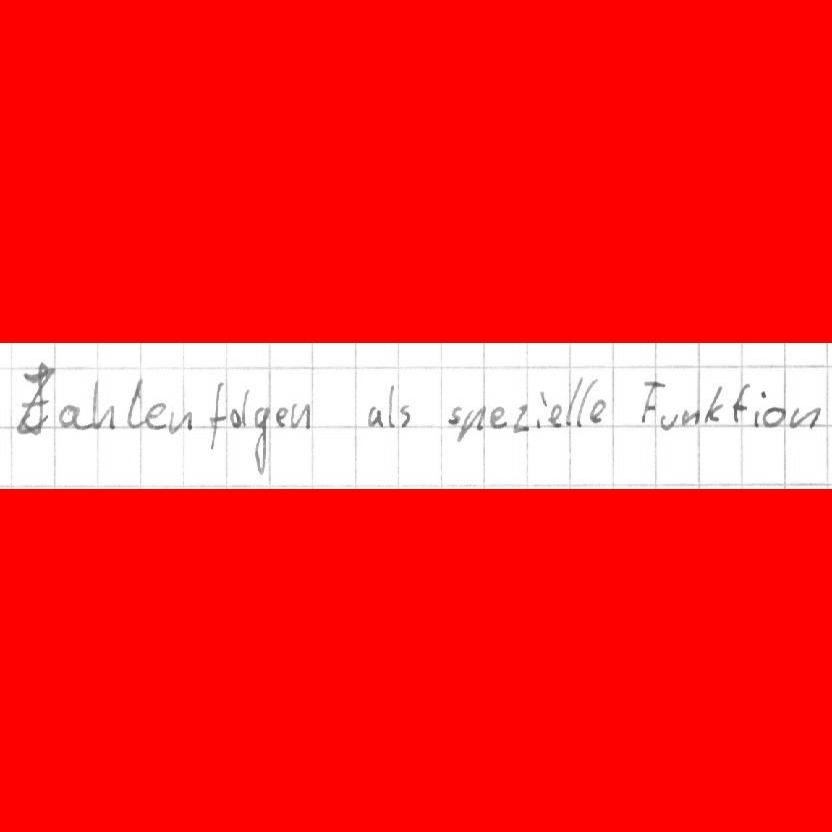Char: (15, 363, 53, 434), (86, 382, 115, 432), (206, 380, 225, 453), (250, 403, 269, 475), (637, 378, 662, 426), (459, 403, 485, 444), (125, 375, 143, 430), (788, 404, 821, 432), (731, 382, 751, 426), (567, 376, 583, 428), (704, 384, 724, 425), (368, 394, 390, 429), (143, 400, 166, 433), (57, 402, 82, 430), (169, 408, 193, 434), (395, 391, 411, 429), (752, 389, 767, 428), (586, 395, 606, 424), (290, 400, 309, 430), (235, 388, 249, 428), (761, 406, 786, 427), (512, 403, 530, 432), (488, 404, 507, 430), (536, 389, 548, 429), (548, 401, 565, 427), (657, 412, 678, 431), (444, 404, 462, 426), (681, 407, 701, 426), (275, 404, 290, 427)
